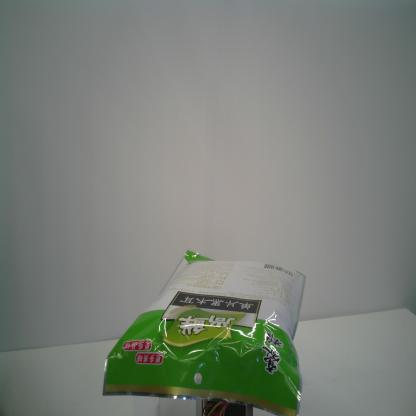Dried Food: (100, 247, 307, 416)
